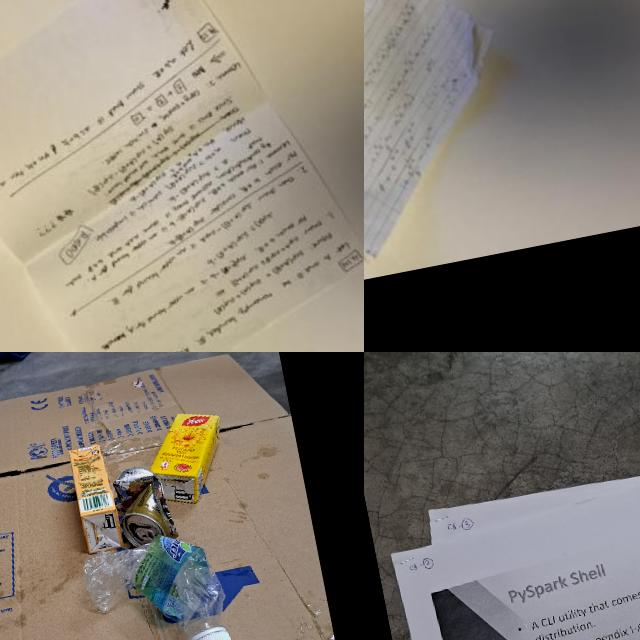aba de lata: (135, 524, 156, 544)
caixinha: (139, 406, 234, 511), (68, 444, 123, 554)
garrafa plástica: (77, 524, 230, 640)
lata: (111, 462, 179, 550)
papel: (0, 0, 364, 352), (375, 392, 640, 640), (364, 0, 528, 305)
papelão: (0, 352, 341, 640)
tampa plástica: (188, 629, 235, 640)
